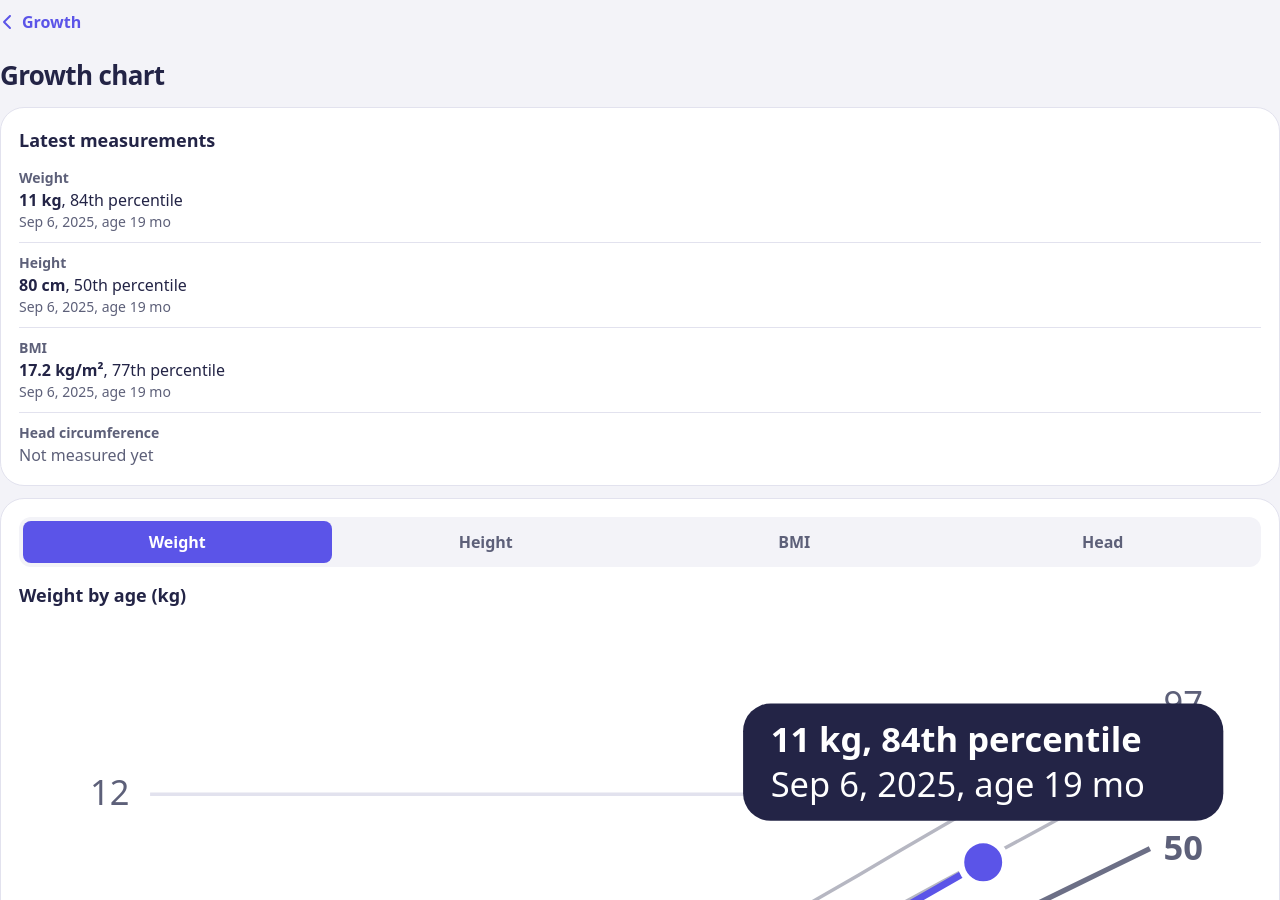
Test: GrowthChartPage › says when a measurement type has no data
Click the button "Head". click: (1103, 542)
box: [948,521,1257,563]
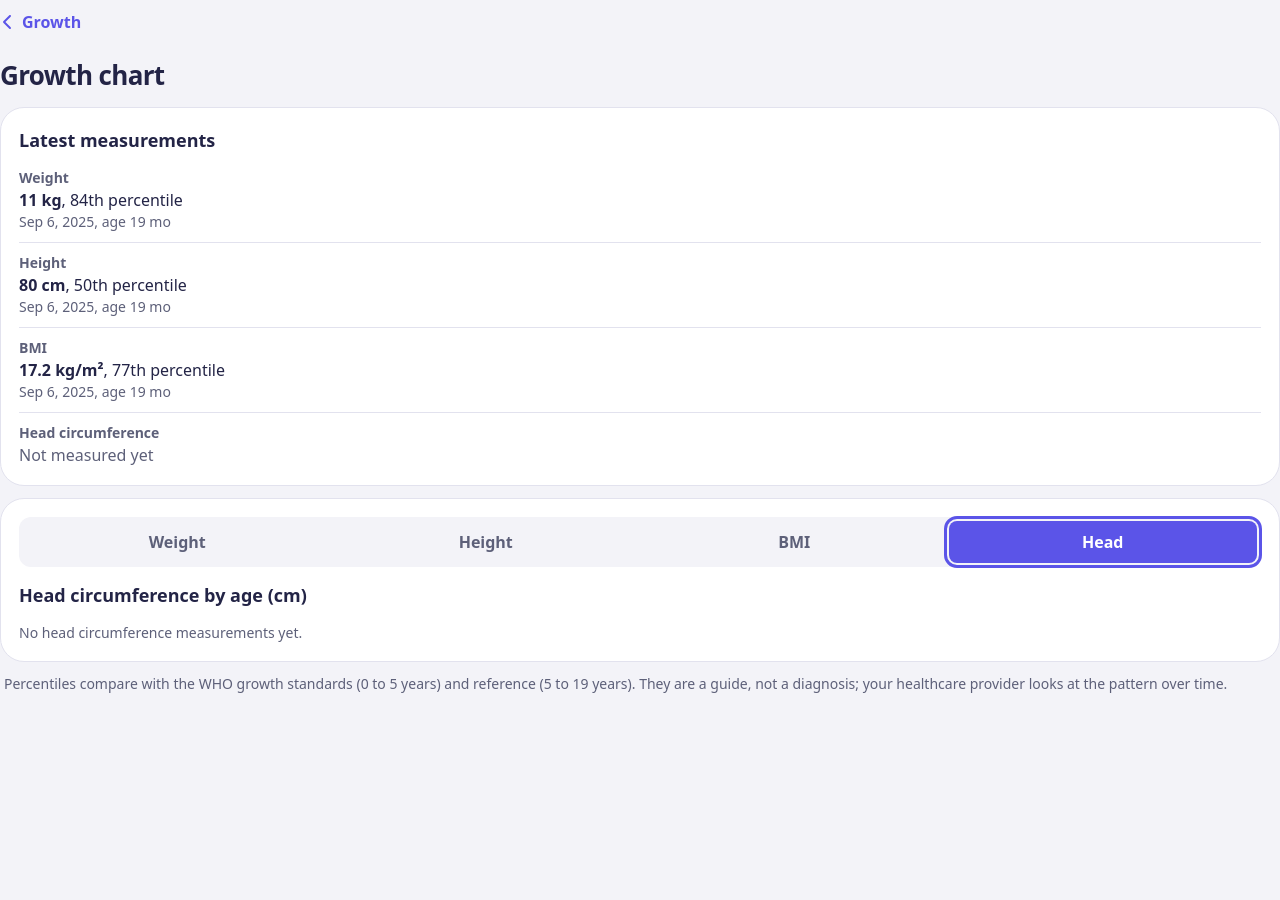
expect the text "No head circumference measurements yet." is shown: met, box [19,623,302,642]
